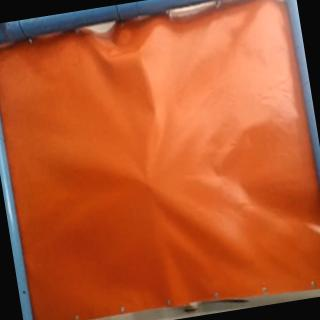Hit-hRxx: (138, 176, 156, 192)
